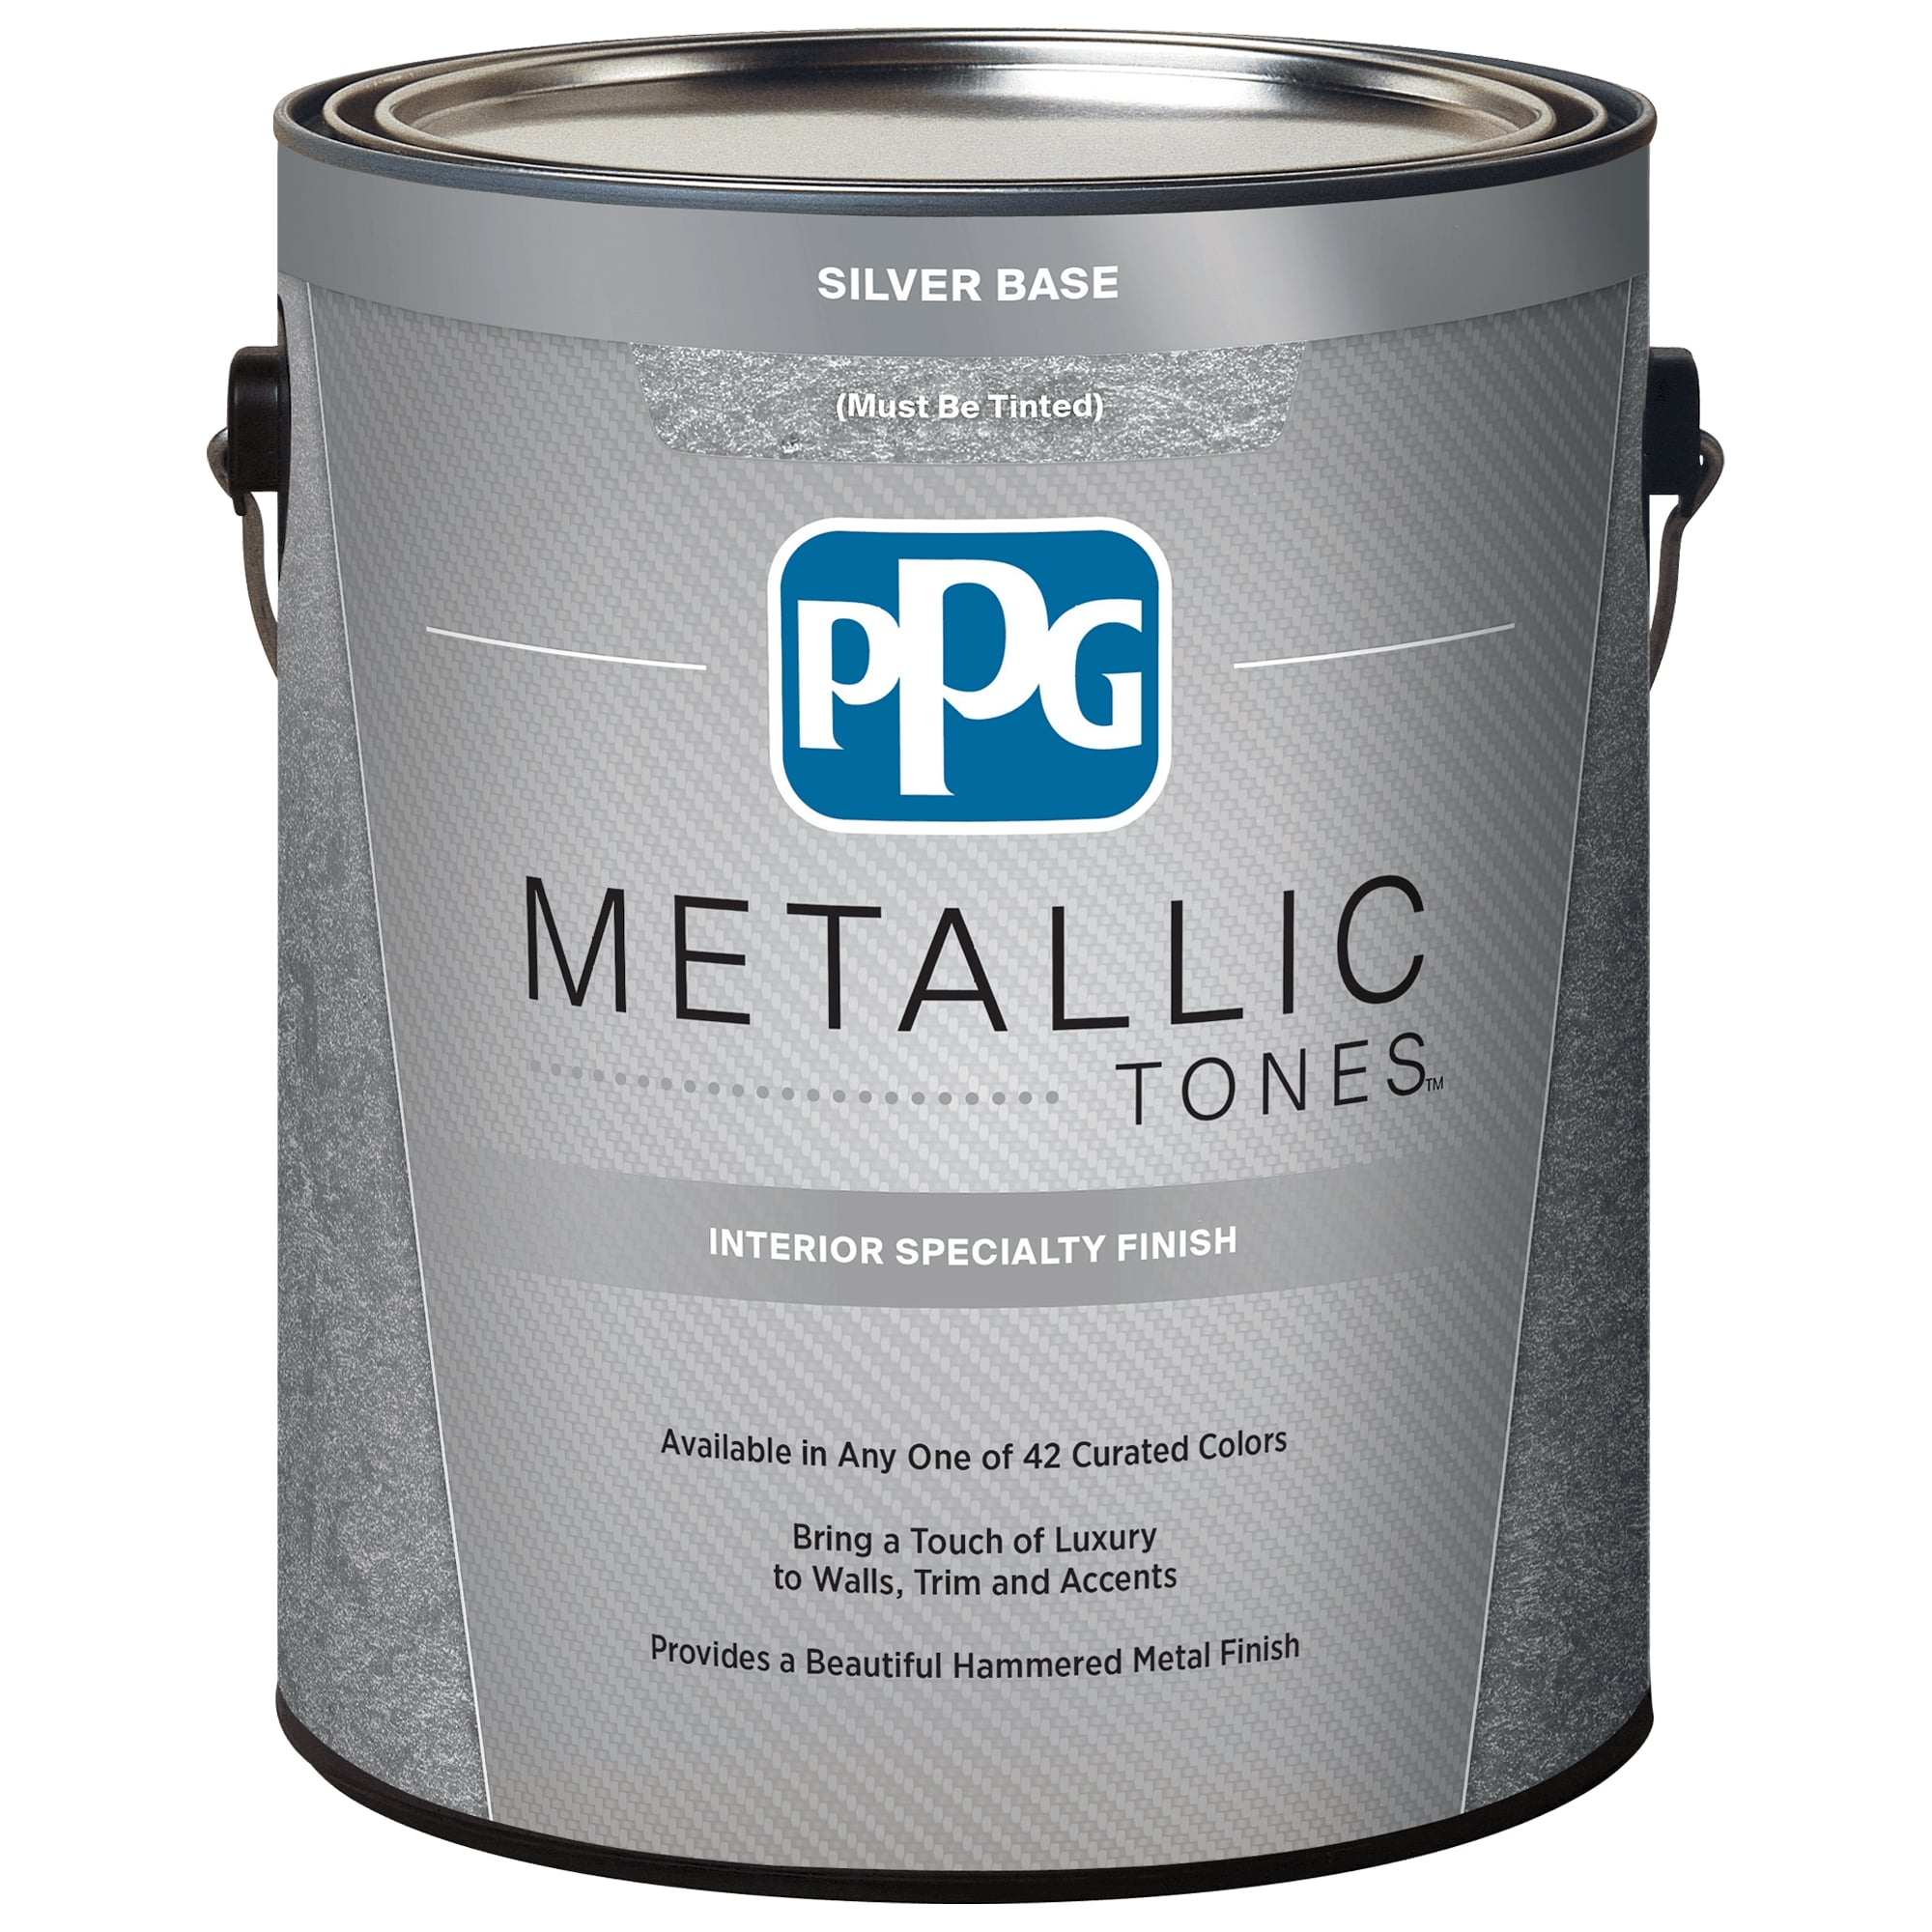metal: (202, 19, 1730, 1907)
